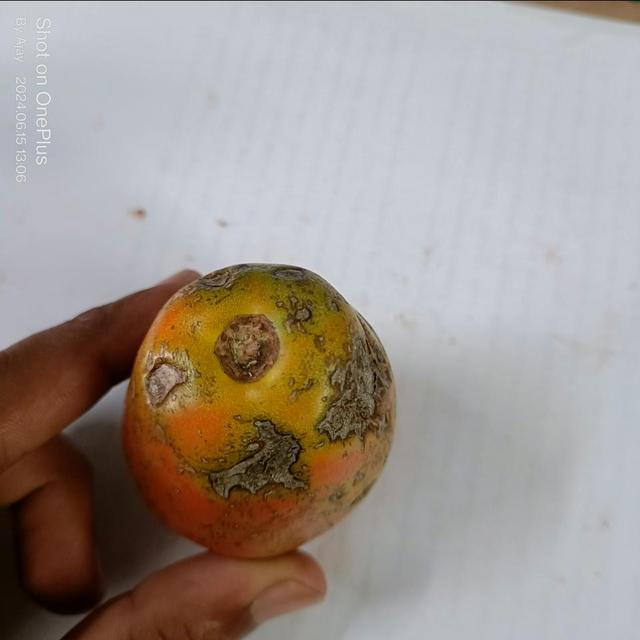Bacterial Spot Fruit: (35, 44, 238, 306)
